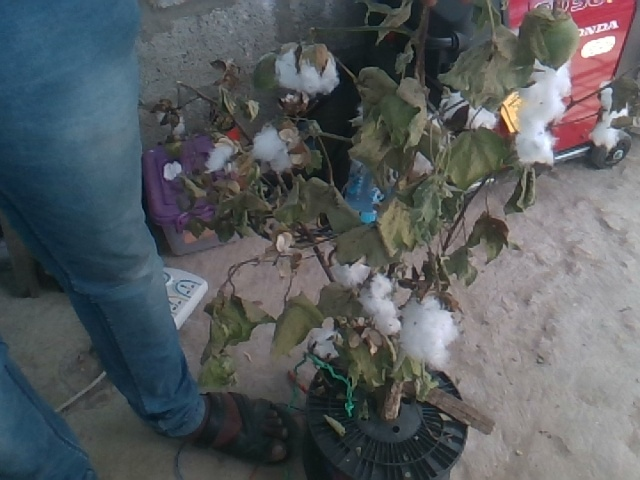cotton: (518, 59, 557, 168), (399, 301, 453, 362), (274, 54, 339, 93), (362, 278, 400, 335), (255, 124, 292, 172)
